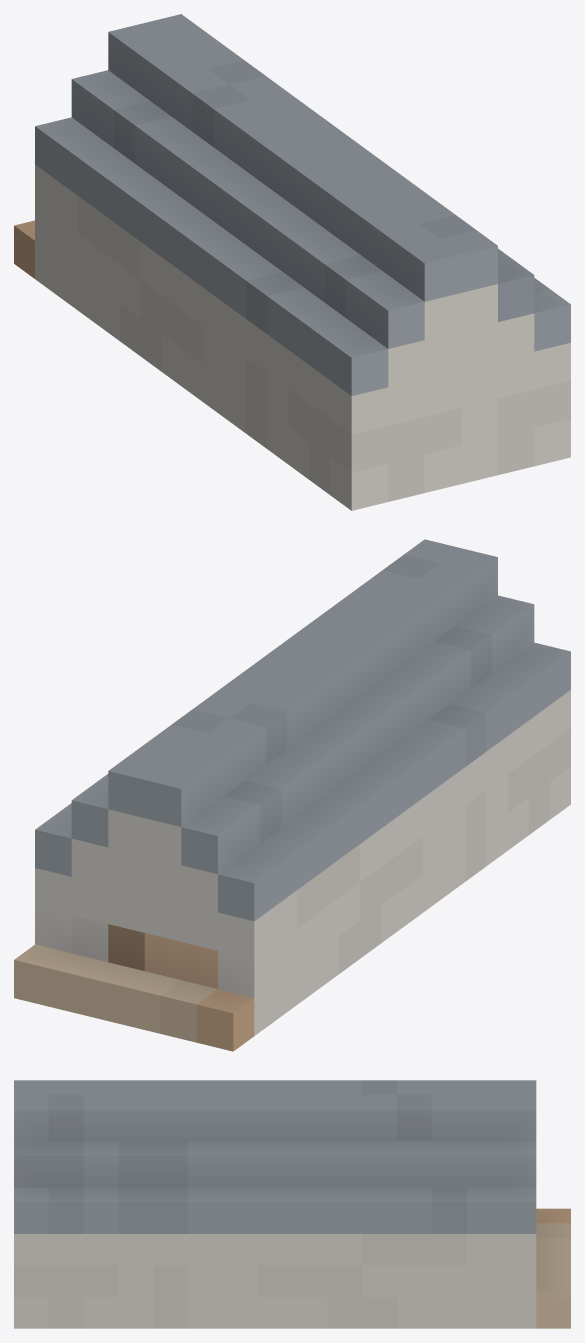
Rendered from gold_mine.lite.glb.
3 views of the same model, one above another, from view 1: azimuth 30°, elevation 25°; view 2: azimuth 150°, elevation 25°; view 3: azimuth 270°, elevation 25° (orthographic). The views are drawn at different scales.
Visible parts, largest first — view 1: gold_mine; view 2: gold_mine; view 3: gold_mine.
Boxes of the visible parts, x1,y1,x2,y2 form: gold_mine: [14, 14, 570, 510]; gold_mine: [14, 539, 570, 1051]; gold_mine: [14, 1080, 570, 1328].
Bounding box in the file's own units: 3 × 3 × 8.
